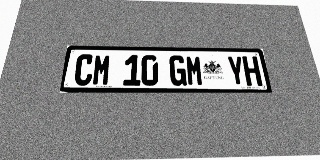0: (141, 55, 158, 86)
1: (123, 55, 141, 86)
C: (73, 54, 94, 86)
G: (169, 55, 187, 86)
H: (242, 56, 263, 86)
M: (92, 54, 111, 86), (185, 55, 204, 86)
Y: (226, 56, 246, 86)
